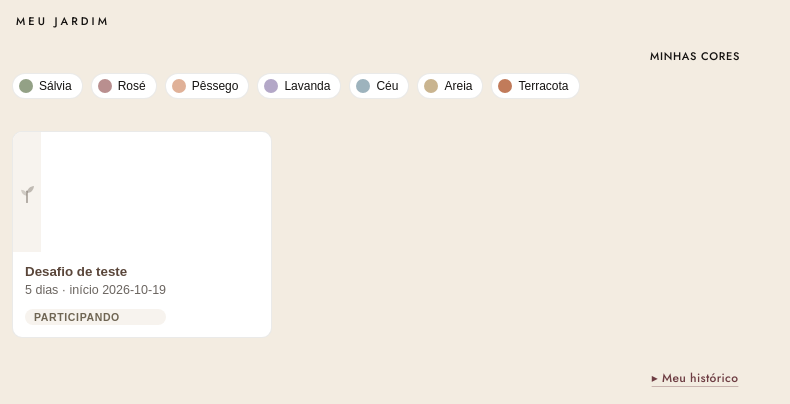
GardenMemberView — carregamento de atividades (useGardenMember mockado, sem Supabase) › mostra "Carregando atividades..." quando daysLoading é verdadeiro
Click the text "Desafio de teste". click: (76, 272)
box: [25, 264, 127, 279]
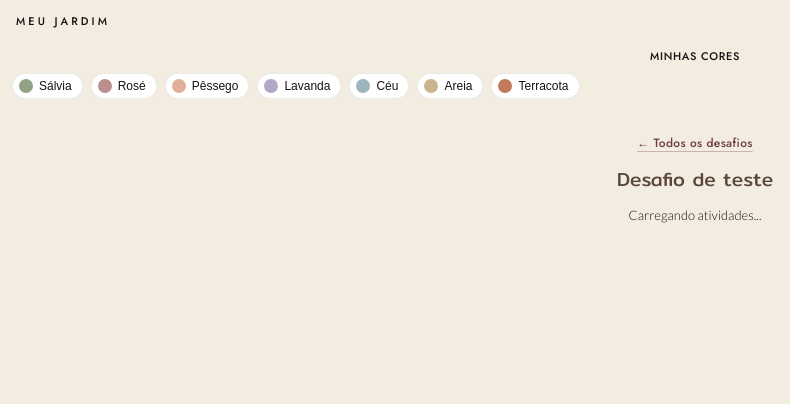
Result: the text "Carregando atividades..." is shown at [628, 207, 761, 223]
